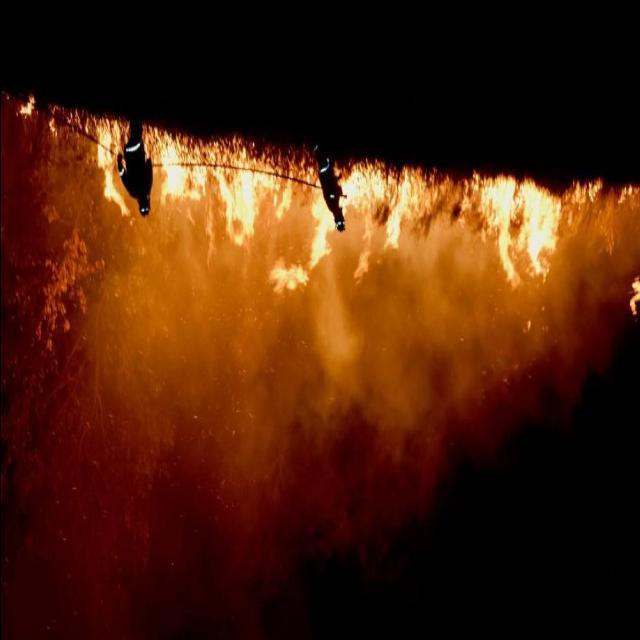Fire: (145, 136, 329, 296), (453, 178, 605, 316), (341, 166, 445, 316), (92, 119, 124, 223), (626, 274, 640, 320), (14, 93, 36, 121), (617, 184, 637, 208), (48, 107, 58, 137)
